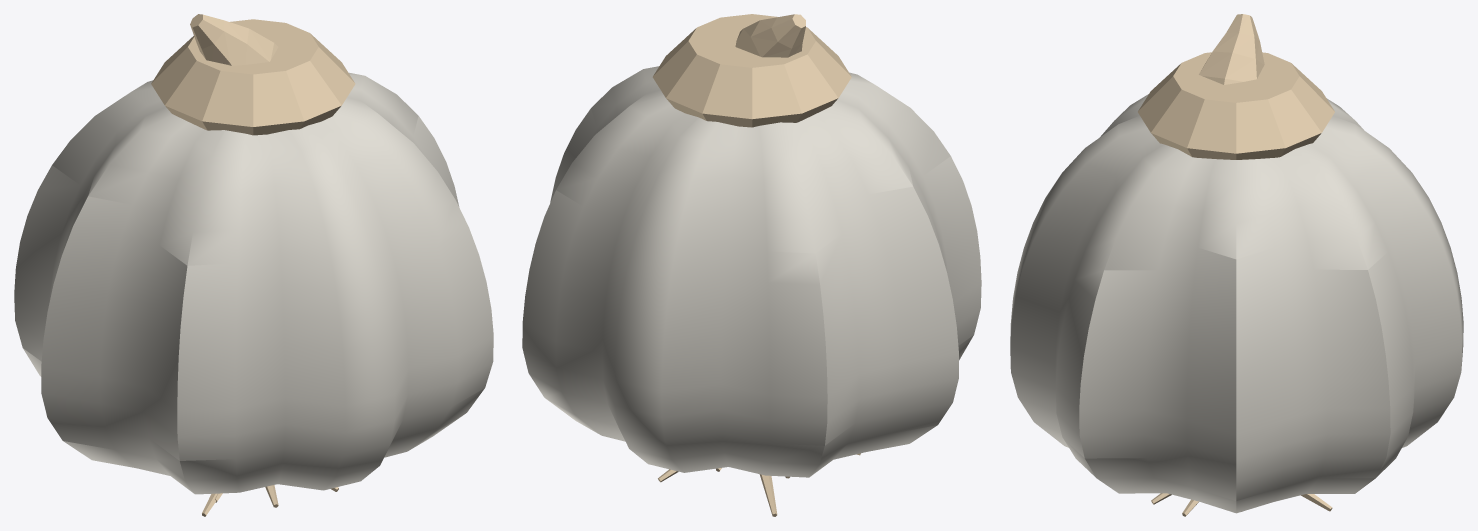
File: fresh-produce-and-groceries-garlic-bulb-cc4dbaaf__24359.glb
The picture shows the model from 3 angles, left to right: view 1: azimuth 30°, elevation 25°; view 2: azimuth 150°, elevation 25°; view 3: azimuth 270°, elevation 25°; orthographic projection. The views are drawn at different scales.
Parts seen in each view (by area): view 1: garlic-bulb; view 2: garlic-bulb; view 3: garlic-bulb.
Part boxes in pixels (x1,y1,x2,y2): garlic-bulb: (14,14,493,516); garlic-bulb: (522,14,981,516); garlic-bulb: (1010,14,1463,516).
Size of the model in its own units: 0.0598 by 0.0642 by 0.0574.
